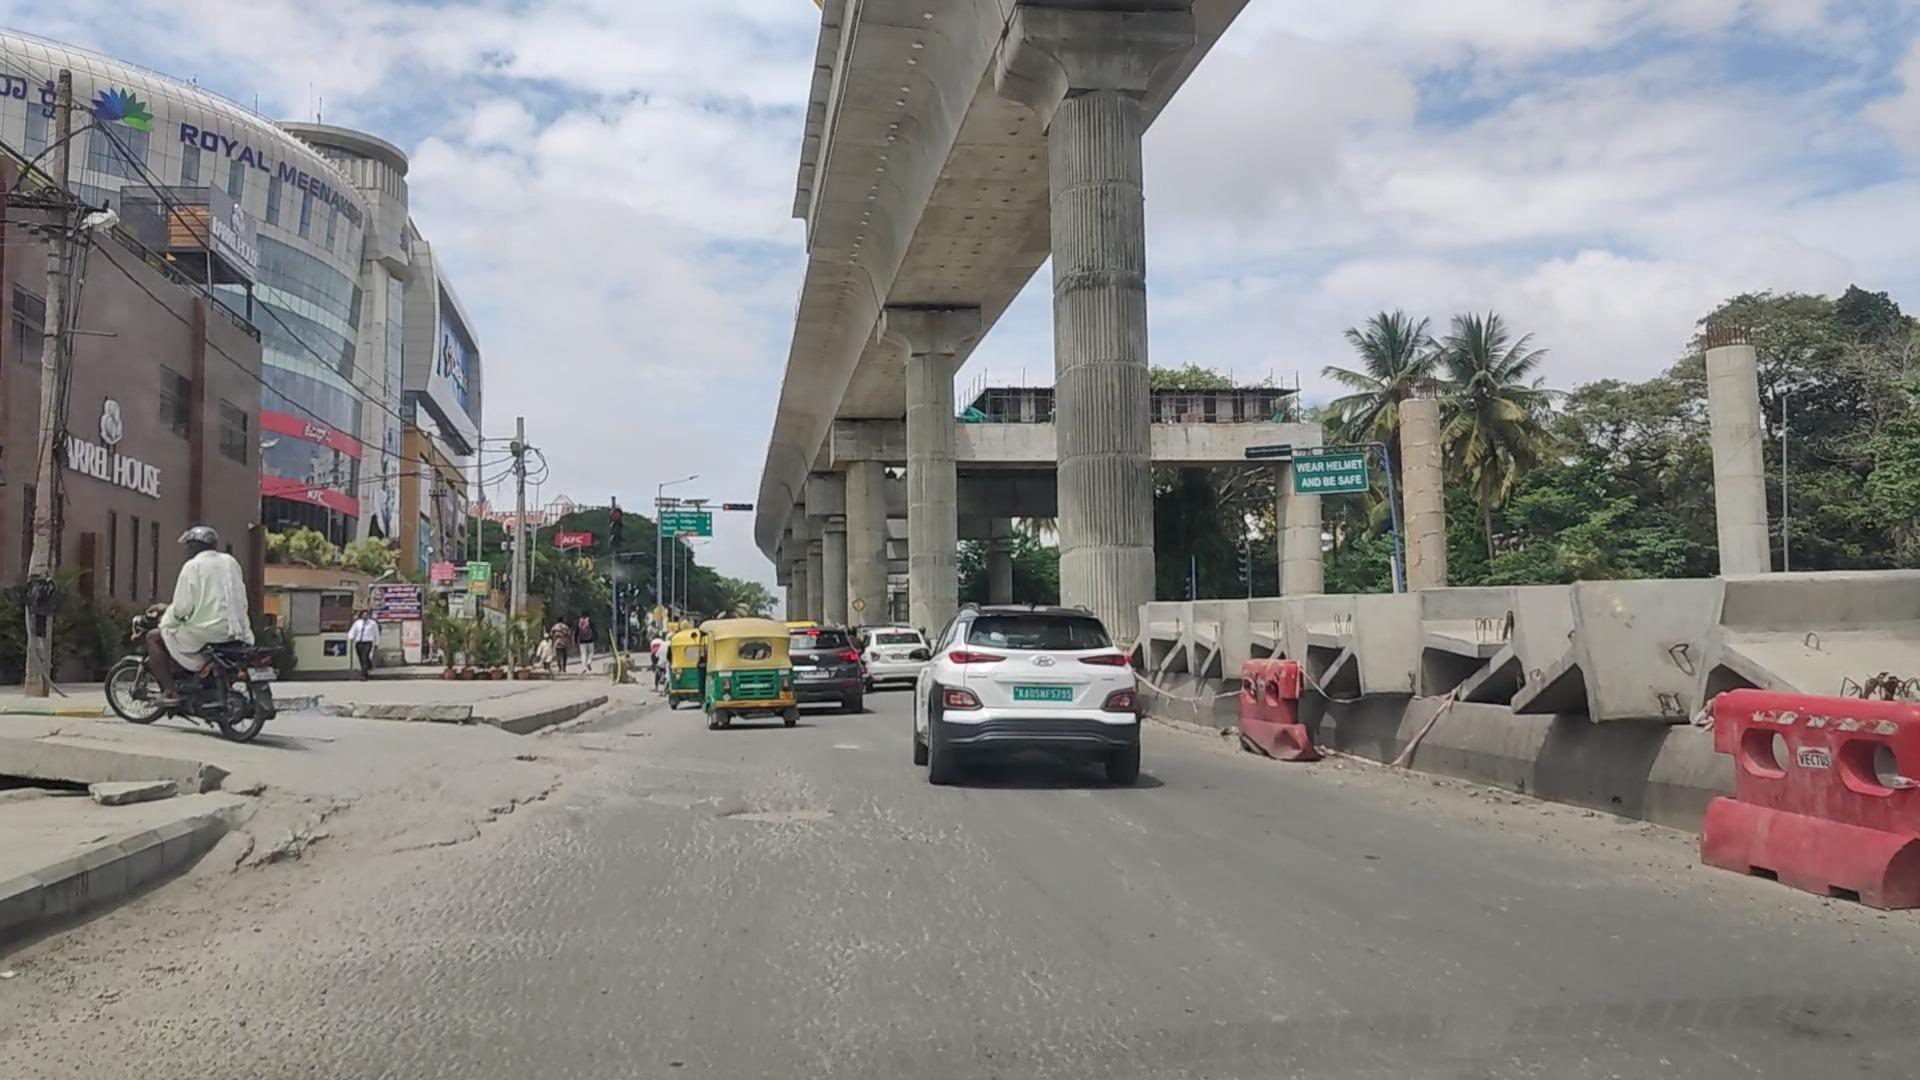LMV: (916, 600, 1130, 782), (135, 522, 264, 732), (703, 616, 796, 731)
RoadDamages: (724, 790, 837, 841)
